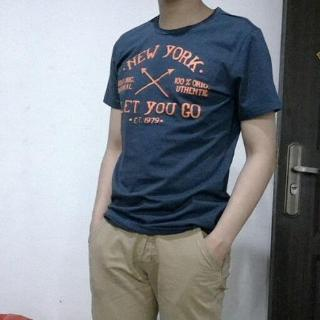short sleeve top: (103, 7, 282, 235)
trousers: (88, 196, 230, 319)
